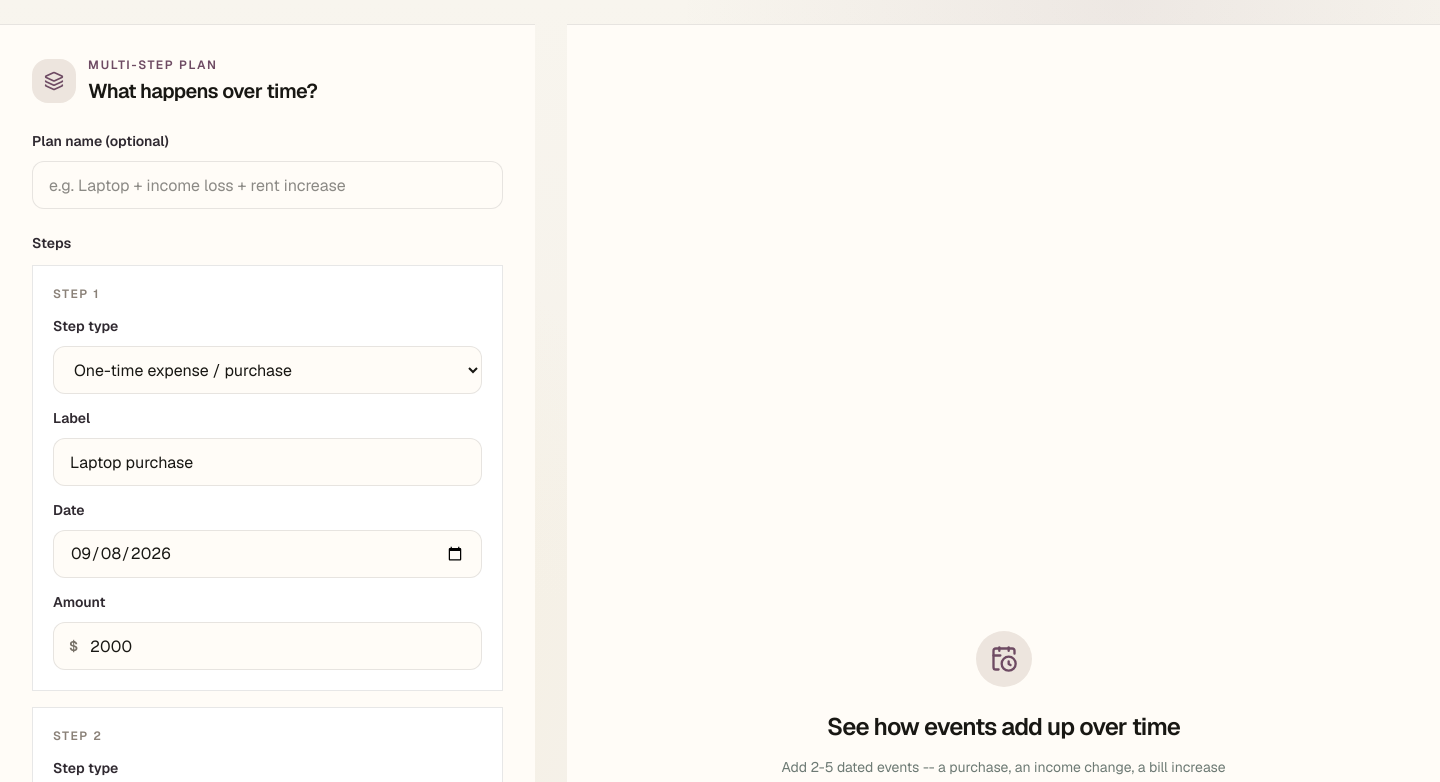
it: MultiStepScenarioPlanner › shows only the fields relevant to the selected step type
This screenshot has width=1440, height=782.
Step 1. Select "Temporary income loss" in the 1st dropdown labelled "Step type" → (268, 370), box [53,346,482,394]
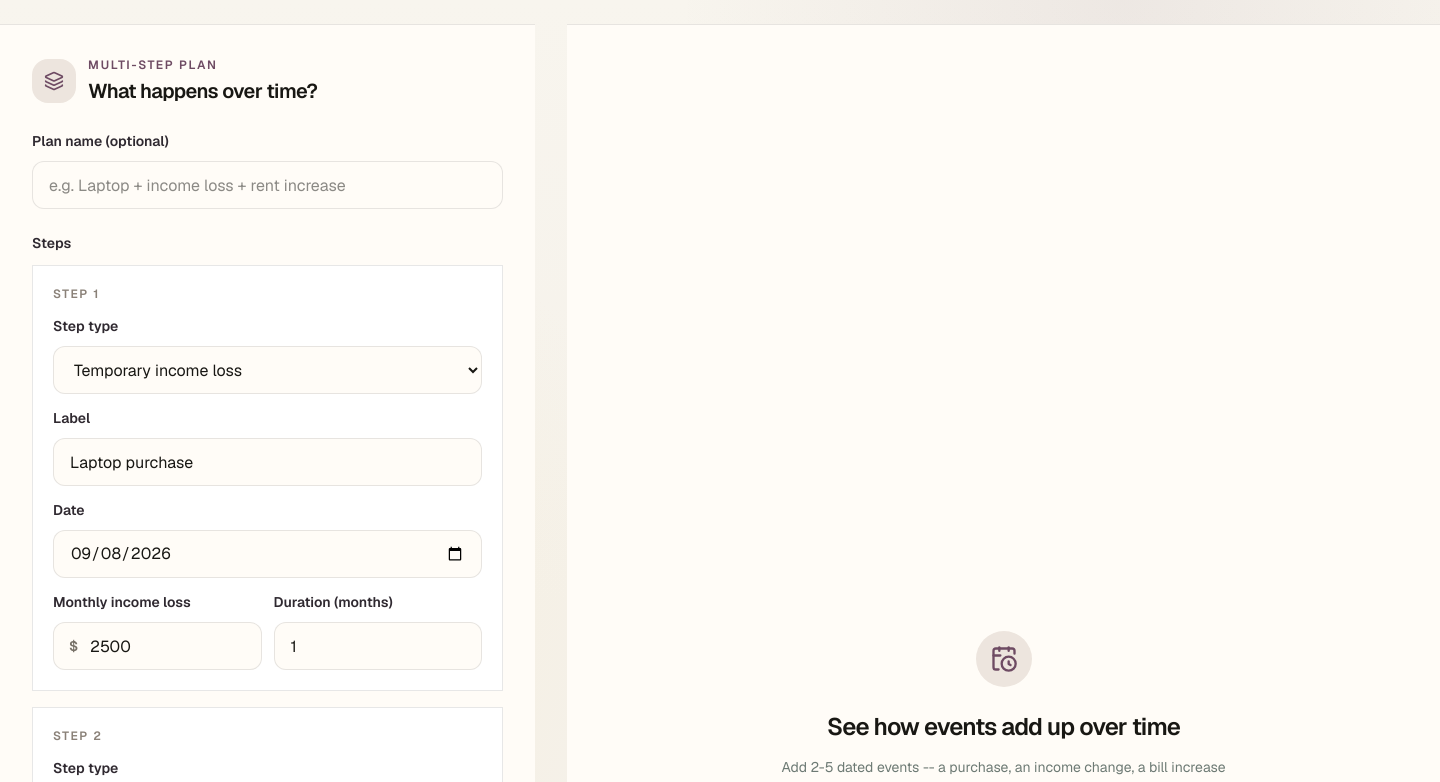
Expected: the number field labelled "Monthly income loss $" is shown, [53,622,262,670]
Result: the number field labelled "Duration (months)" is shown at [274,622,482,670]
Result: the text labelled "Amount" is gone
